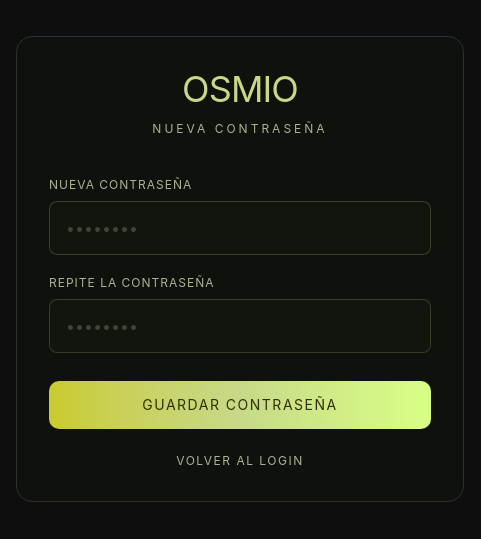
ResetPasswordScreen › muestra el error cuando updatePassword falla
Type "newpass123" into the password field labelled "Nueva contraseña". click: (240, 228)
box: [49,201,431,255]
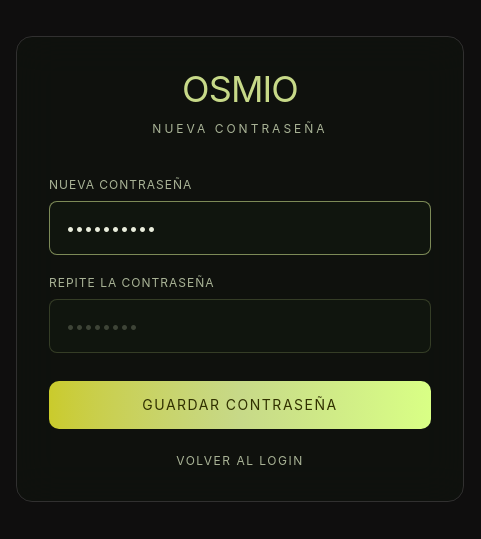
Type "newpass123" into the password field labelled "Repite la contraseña". click: (240, 326)
box: [49,299,431,353]
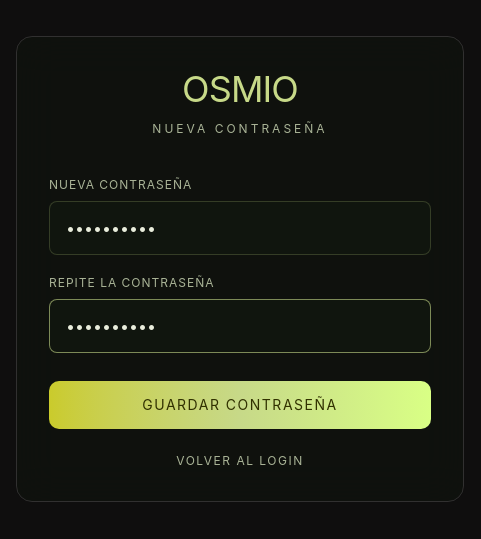
Click the button "GUARDAR CONTRASEÑA". click: (240, 405)
box: [49,381,431,429]
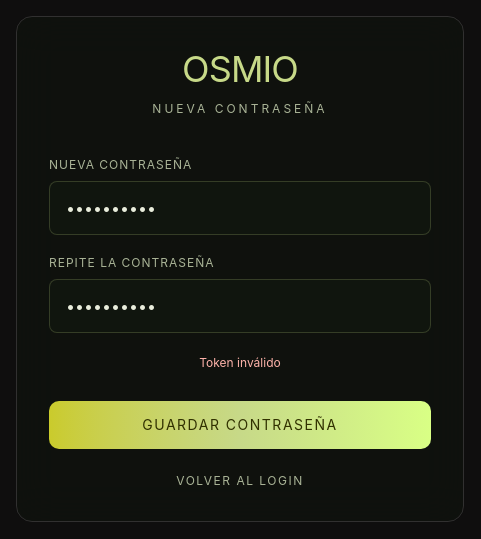
Check: the text "Token inválido" is shown, box [199,355,281,370]
